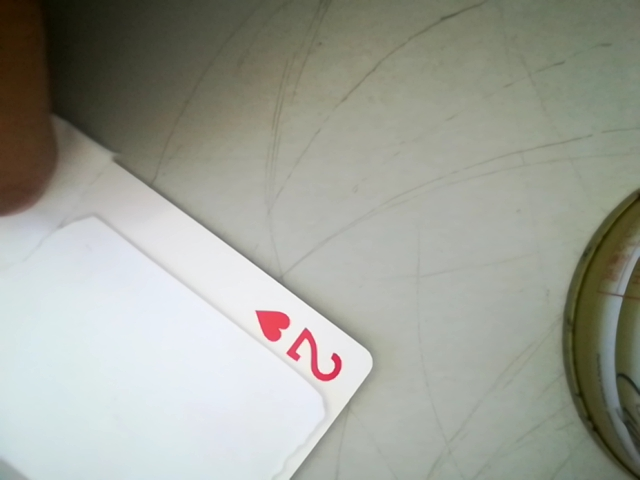hx 2: (250, 304, 356, 393)
